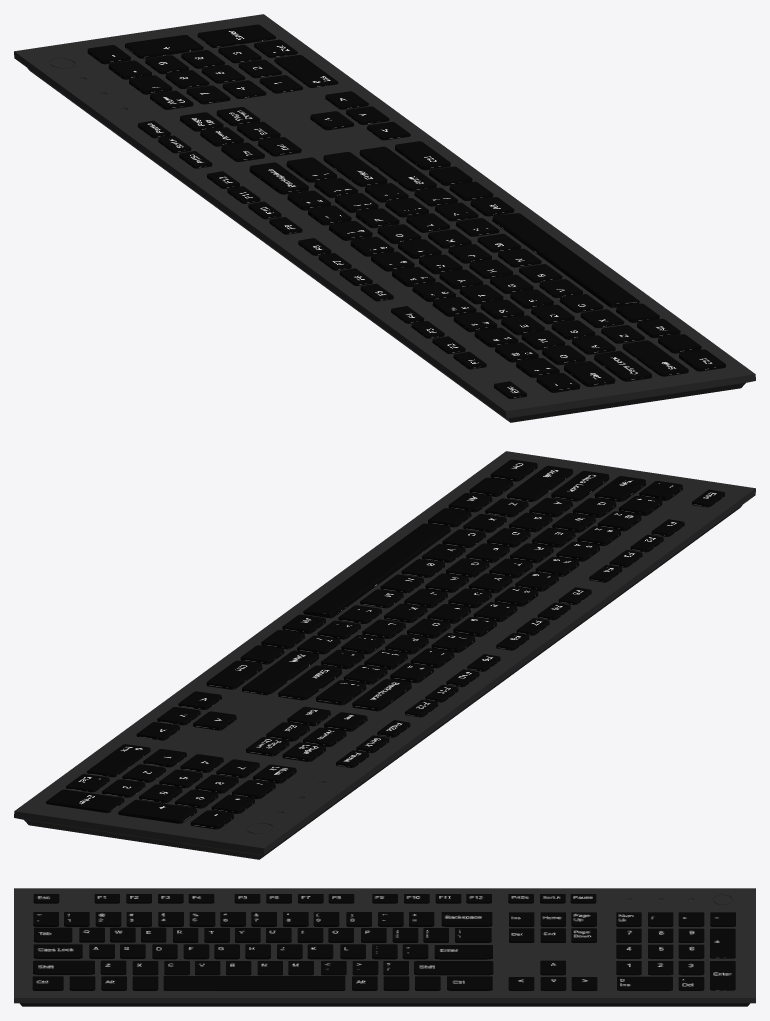
The model's file is computerKitStatic_Keyboard.fbx.
The picture shows the model from 3 angles, top to bottom: view 1: azimuth 30°, elevation 25°; view 2: azimuth 150°, elevation 25°; view 3: azimuth 270°, elevation 25°; orthographic projection. The views are drawn at different scales.
Visible parts, largest first — view 1: pasted__pCube68.003; view 2: pasted__pCube68.003; view 3: pasted__pCube68.003.
Boxes of the visible parts, x1,y1,x2,y2 form: pasted__pCube68.003: (14,14,755,422); pasted__pCube68.003: (14,451,755,859); pasted__pCube68.003: (14,888,755,1006).
Size of the model in its own units: 13.89 by 2.17 by 47.32.
